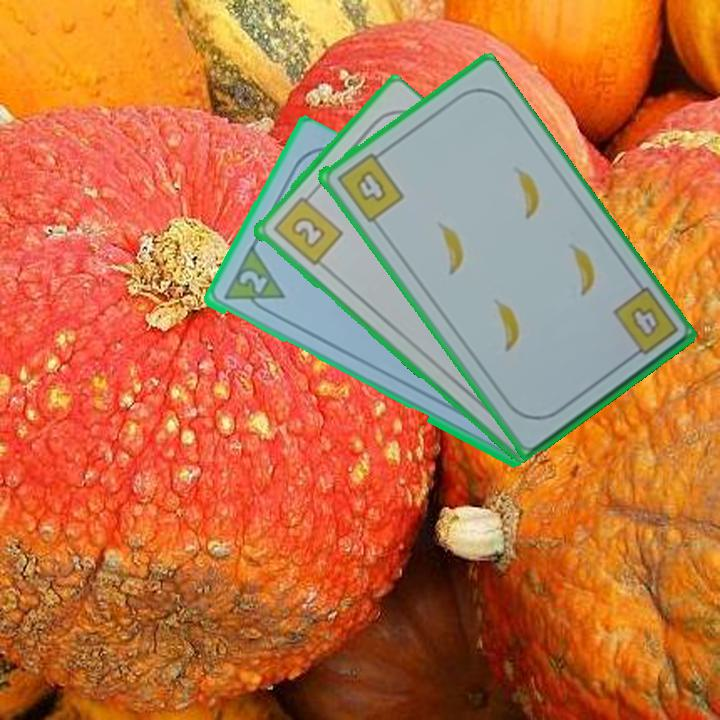2b: (269, 188, 345, 268)
2p: (235, 266, 270, 297)
4b: (608, 283, 681, 365), (332, 146, 406, 225)
